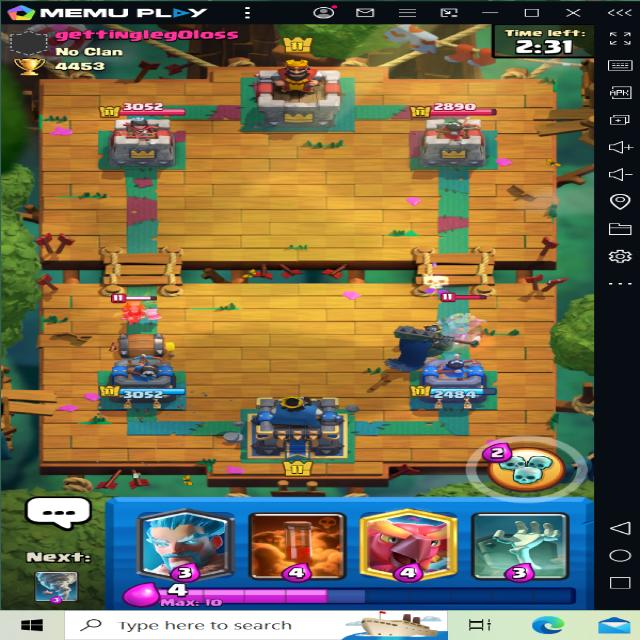royal-ghost: (427, 289, 490, 349)
valkyrie: (109, 290, 183, 330)
